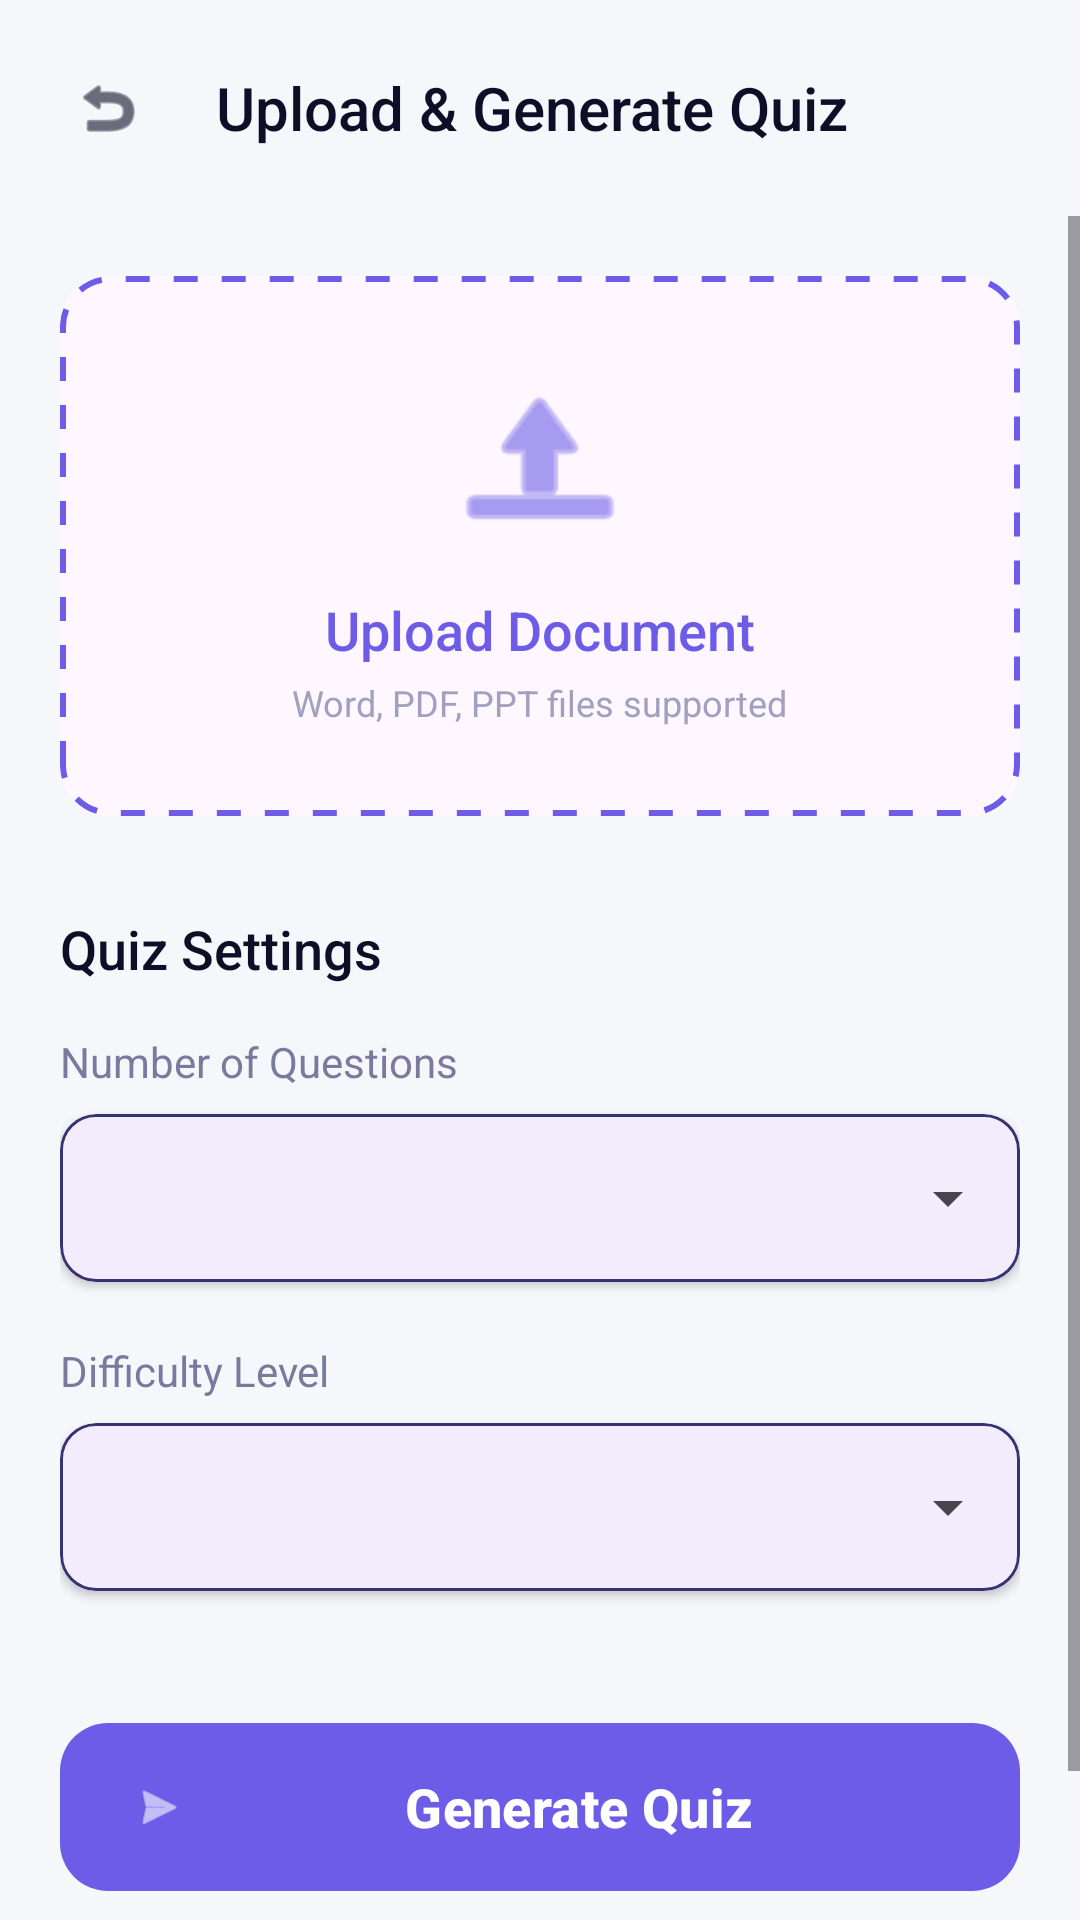

Icon bounding boxes for this 1080w x 1920h phone screenshot, format [x1, y1, x2, y2]:
revert: [83, 85, 135, 132]
